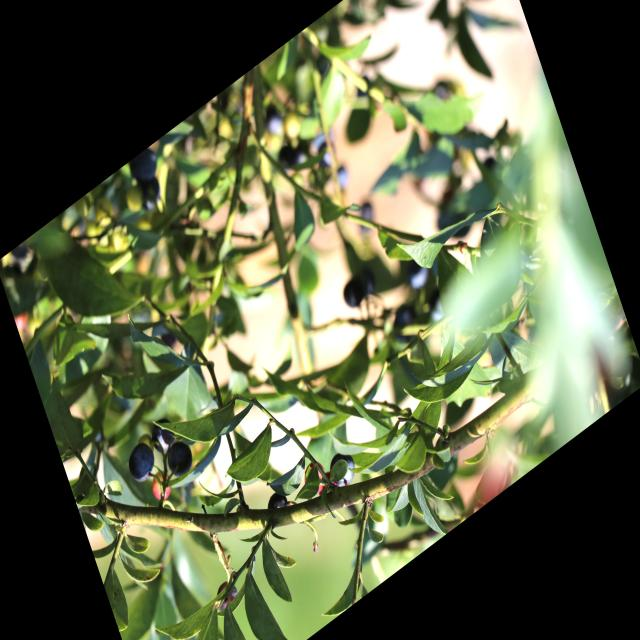blueberry: (122, 434, 162, 491), (164, 432, 198, 484), (326, 444, 360, 494), (148, 408, 182, 457), (264, 488, 290, 520)
